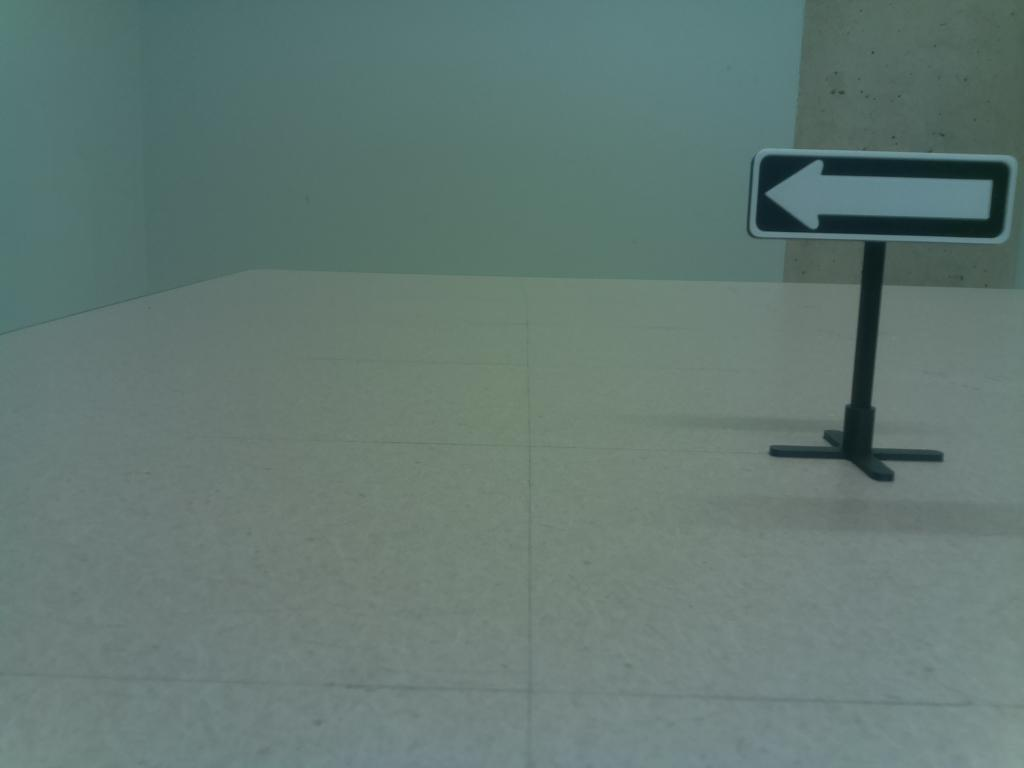sign_oneway_left: (747, 146, 1019, 248)
